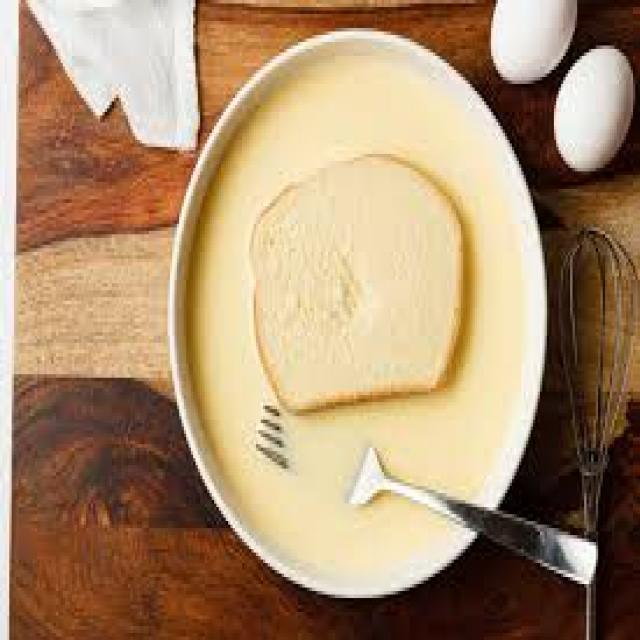Bread: (250, 156, 463, 409)
